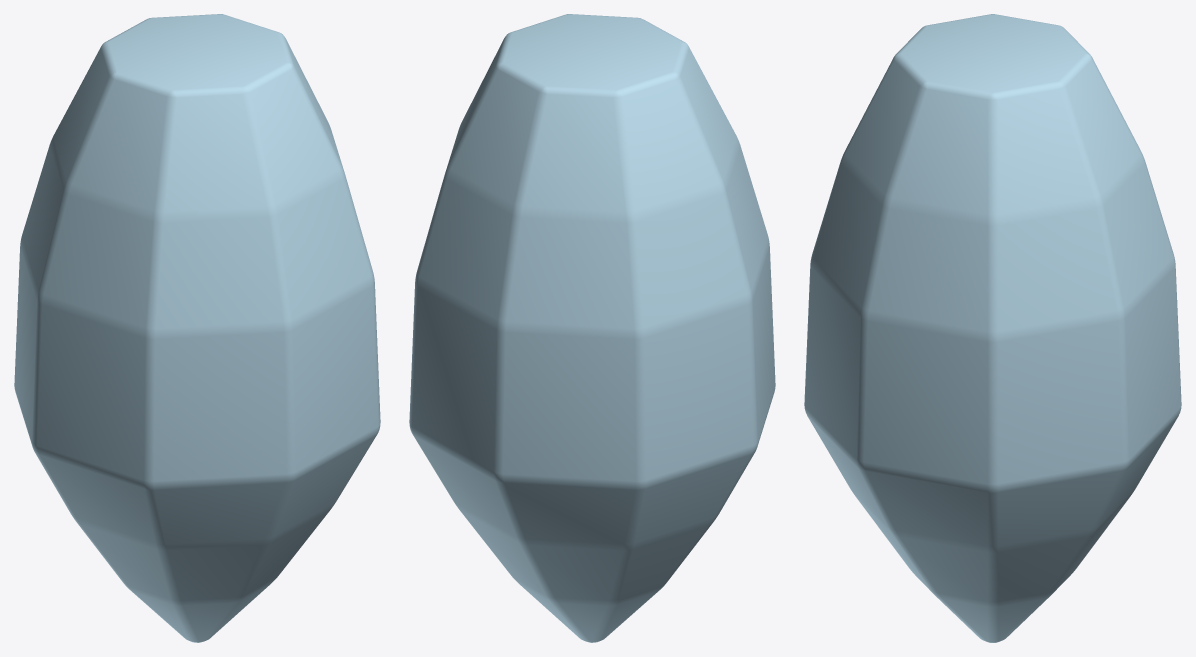
The model's file is glass-specimen.glb.
The picture shows the model from 3 angles, left to right: view 1: azimuth 30°, elevation 25°; view 2: azimuth 150°, elevation 25°; view 3: azimuth 270°, elevation 25°; orthographic projection.
Parts seen in each view (by area): view 1: GlassBody; view 2: GlassBody; view 3: GlassBody.
Boxes of the visible parts, box(x1,y1,x2,y2) form: GlassBody: box(14, 14, 380, 642); GlassBody: box(409, 14, 775, 642); GlassBody: box(804, 14, 1181, 642).
Bounding box in the file's own units: 0.5948 × 1.02 × 0.5948.
